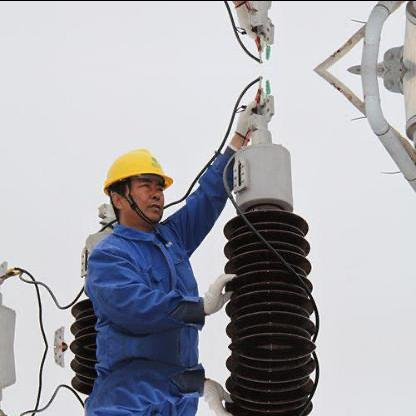Helmet: (95, 138, 175, 230)
